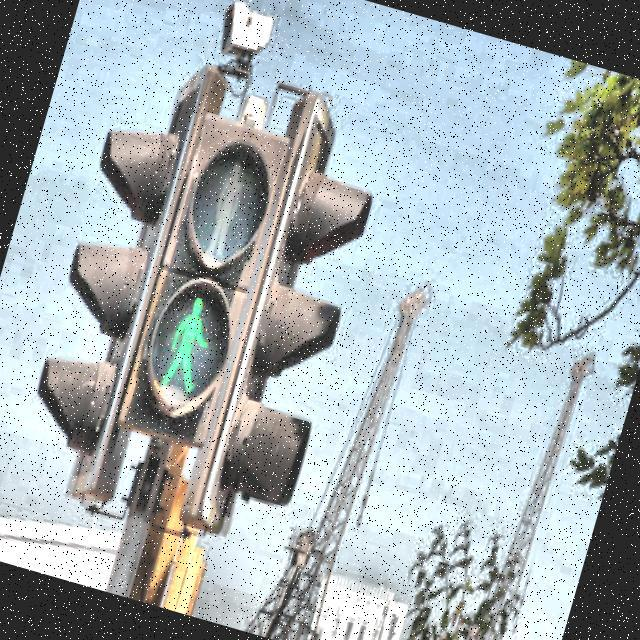green_light: (154, 290, 222, 404)
